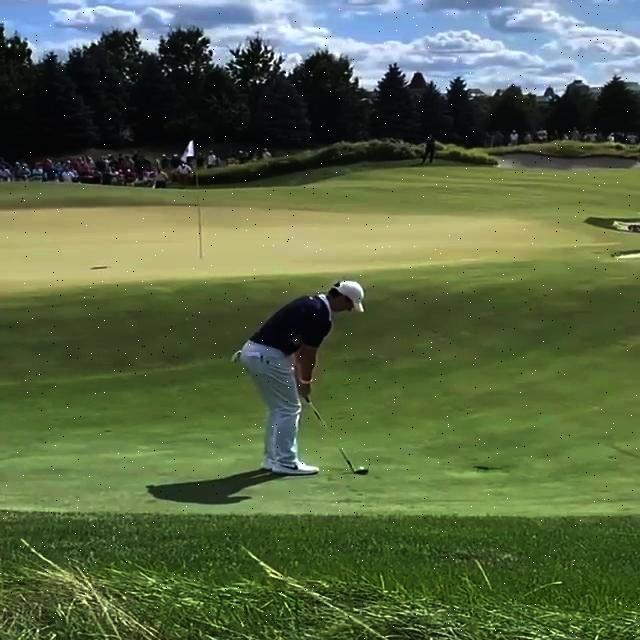ClubHead: (354, 470, 368, 474)
GolfBall: (358, 466, 364, 470)
